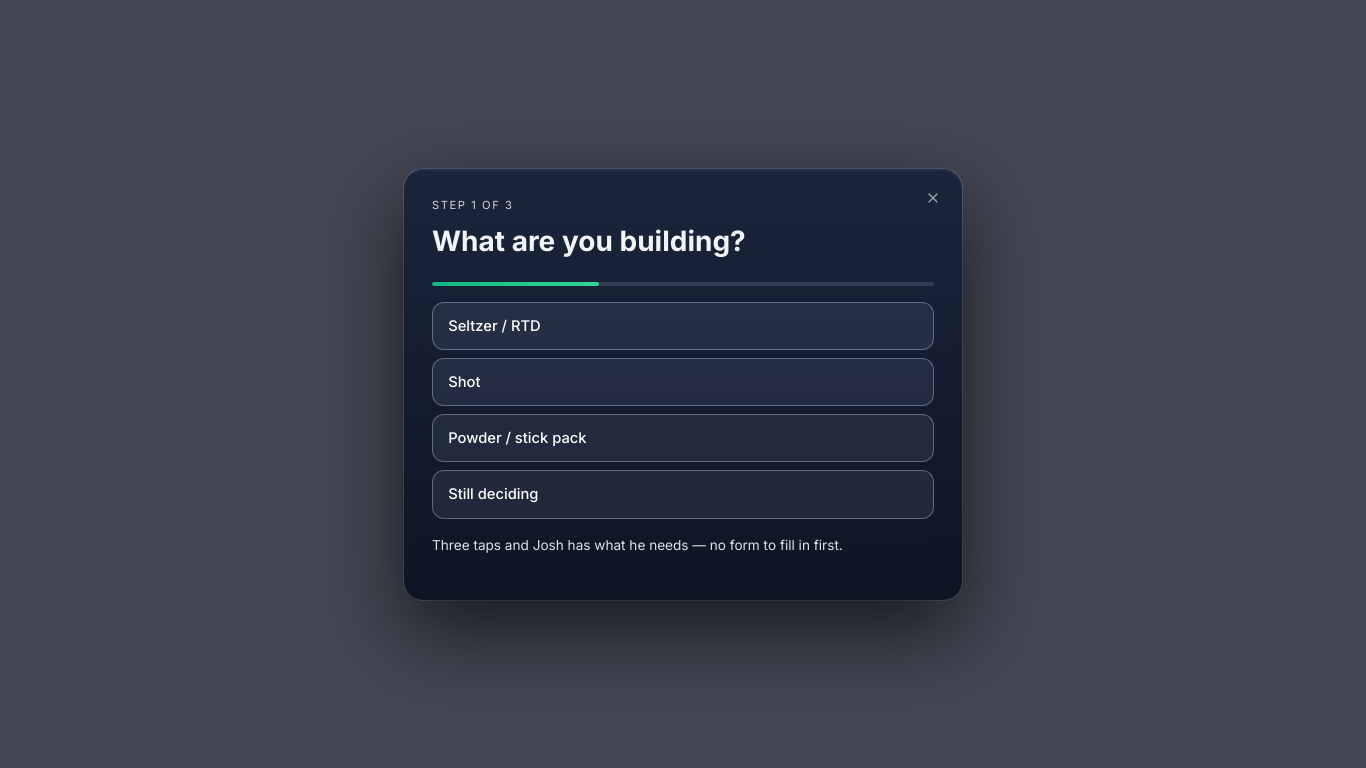
it: the three-tap quiz › walks three questions and reports progress
The image size is (1366, 768).
Expected: the text "Step 1 of 3" is shown, top-left (432, 198), bottom-right (514, 212)
Click the button "Seltzer / RTD": (494, 326) top-left (432, 302), bottom-right (934, 350)
Wait 240 ms
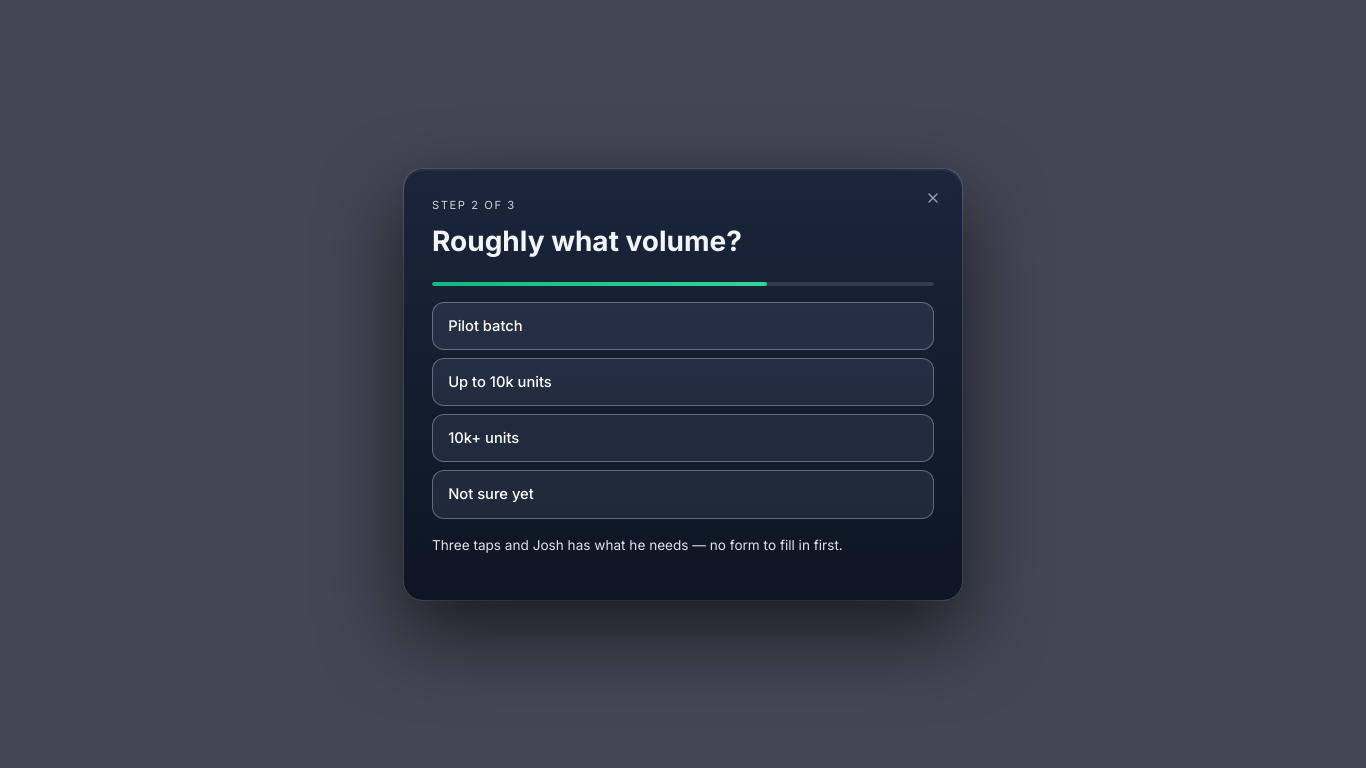
Expected: the text "Step 2 of 3" is shown, top-left (432, 198), bottom-right (516, 212)
Click the button "10k+ units": (484, 438) top-left (432, 414), bottom-right (934, 462)
Wait 240 ms
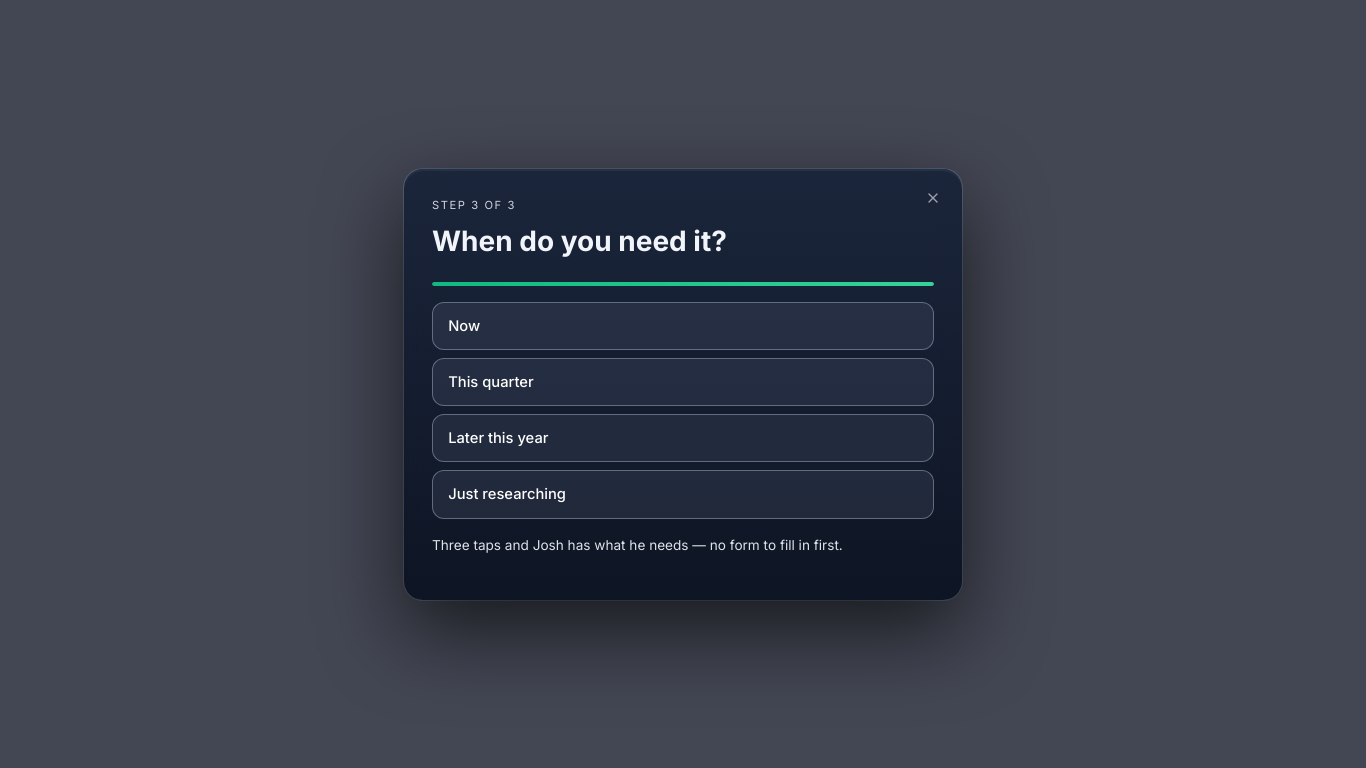
Expected: the text "Step 3 of 3" is shown, top-left (432, 198), bottom-right (516, 212)
